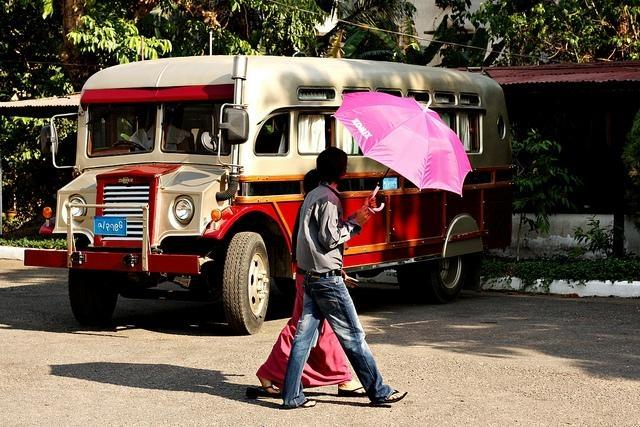bus: (22, 51, 522, 338)
